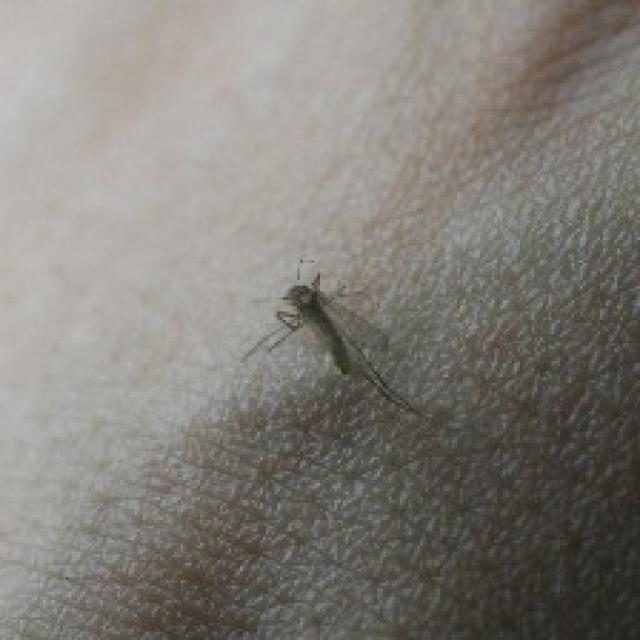culex: (237, 254, 426, 420)
